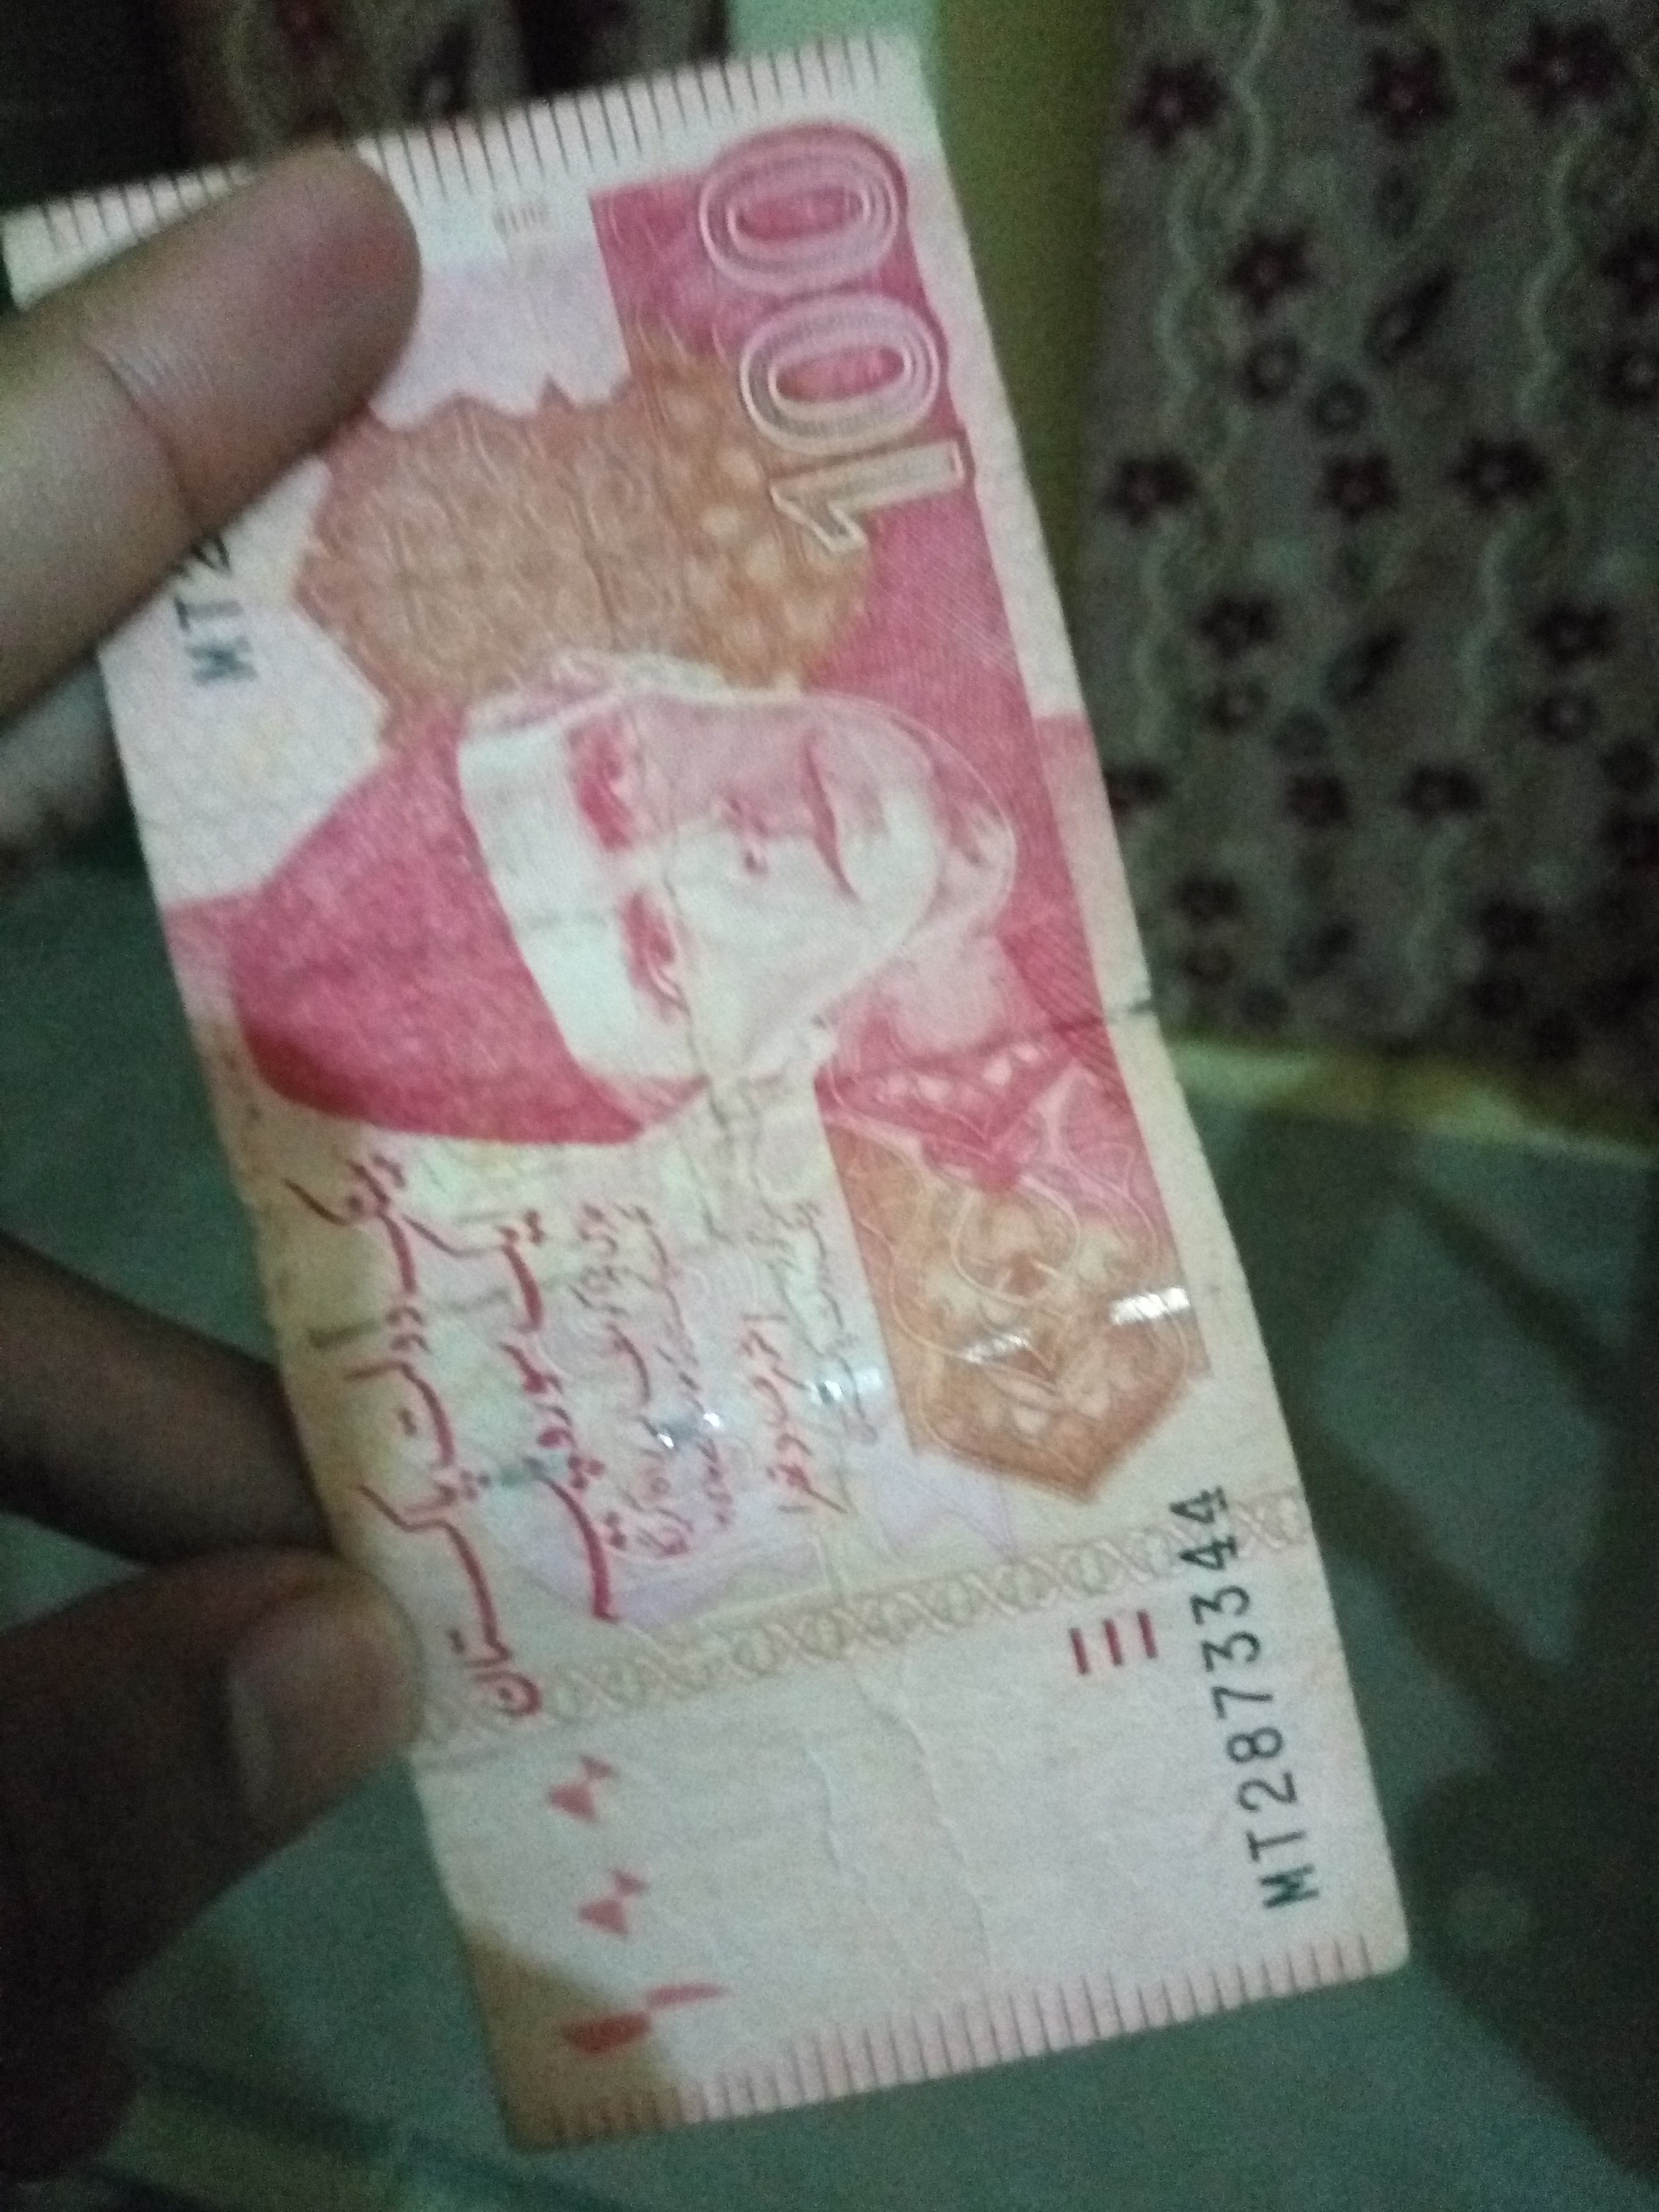100 rupee: (24, 14, 1432, 2174)
